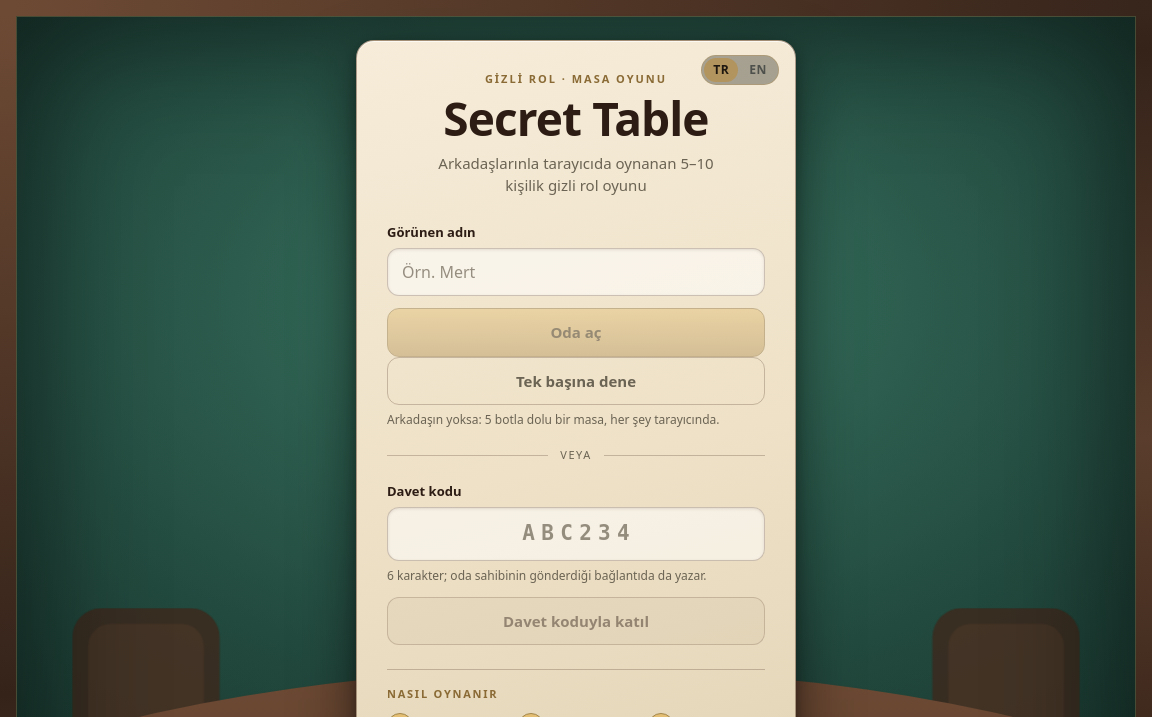
Test case: davet kodu alanı büyük harfe çevirir, geçersiz karakteri atar ve 6 karakterde durur
This screenshot has width=1152, height=717.
Type "abc-234xy" into the field labelled "Davet kodu" at (576, 534), box [387, 507, 765, 561]
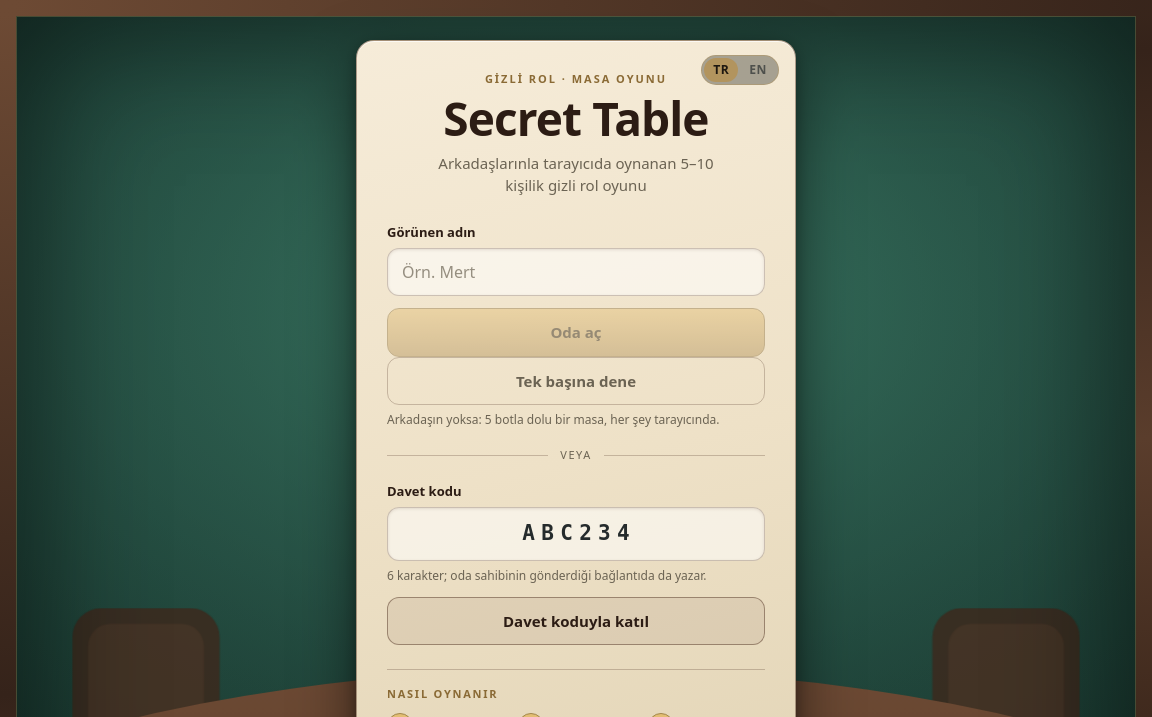
Check: the field labelled "Davet kodu" holds "ABC234", box [387, 507, 765, 561]
